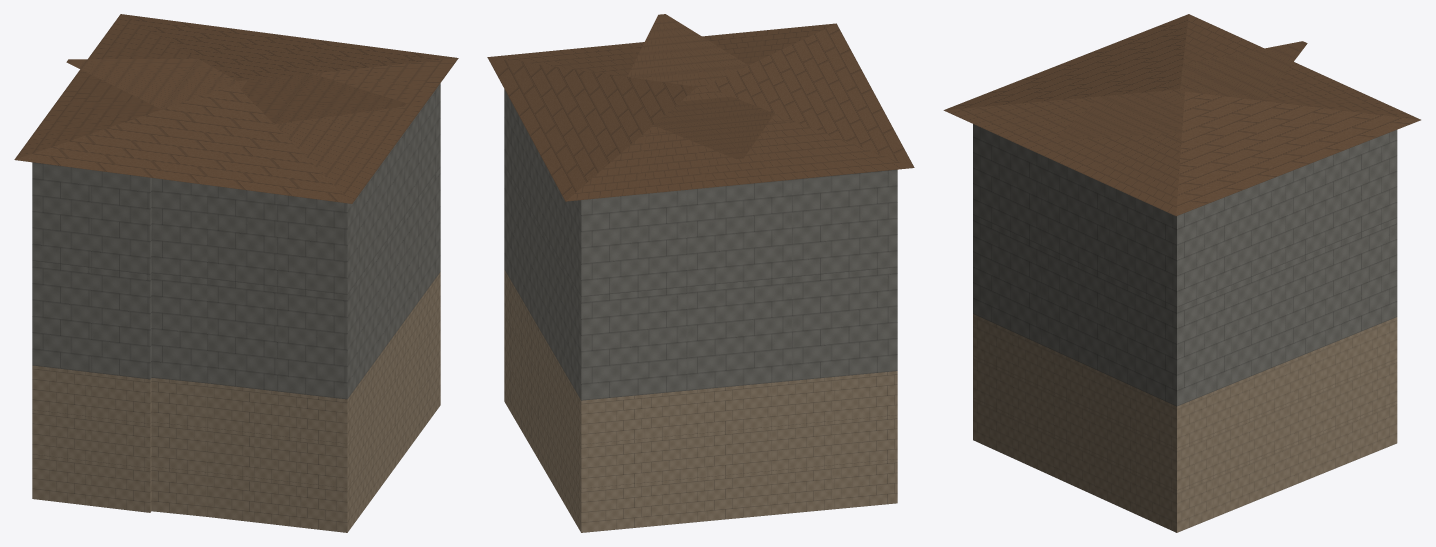
The model's file is bld_c40_33_289.gltf.
3 views of the same model, side by side, from view 1: azimuth 30°, elevation 25°; view 2: azimuth 150°, elevation 25°; view 3: azimuth 270°, elevation 25° (orthographic). The views are drawn at different scales.
Visible parts, largest first — view 1: bld_c40_33_289; view 2: bld_c40_33_289; view 3: bld_c40_33_289.
Part boxes in pixels (x1,y1,x2,y2): bld_c40_33_289: (14, 14, 458, 532); bld_c40_33_289: (487, 14, 914, 532); bld_c40_33_289: (943, 14, 1420, 532).
Bounding box in the file's own units: 17.5 × 14.1 × 17.49.
Materials: 3 (3 with a texture image).
